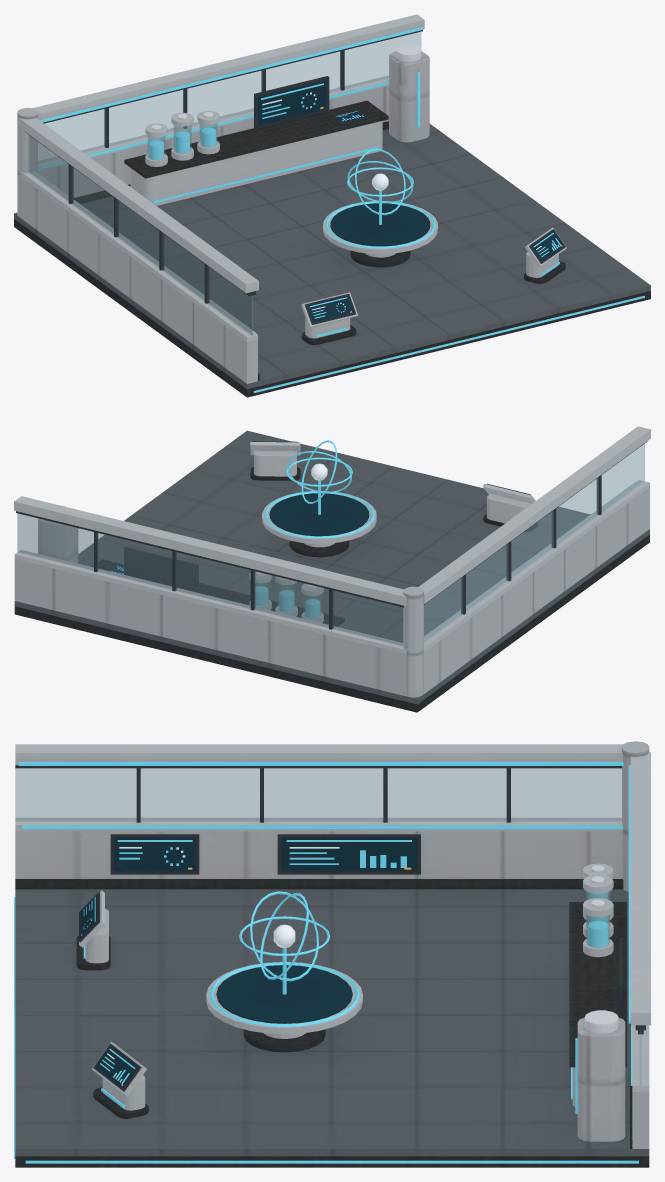
File: enterprise_lab.glb
The picture shows the model from 3 angles, top to bottom: view 1: azimuth 30°, elevation 25°; view 2: azimuth 150°, elevation 25°; view 3: azimuth 270°, elevation 25°; orthographic projection. The views are drawn at different scales.
Visible parts, largest first — view 1: te_enterprise_lab; view 2: te_enterprise_lab; view 3: te_enterprise_lab.
Part boxes in pixels (x1=…): te_enterprise_lab: x1=14, y1=14, x2=650, y2=397; te_enterprise_lab: x1=14, y1=426, x2=650, y2=712; te_enterprise_lab: x1=14, y1=741, x2=650, y2=1167.
Size of the model in its own units: 1.87 by 0.512 by 1.87.
Materials: 2 (1 with a texture image).
